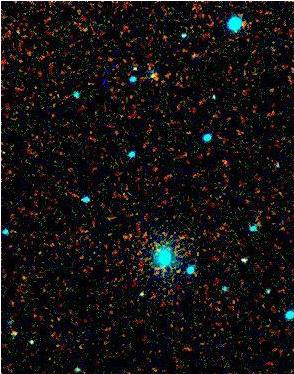star: (165, 259, 195, 289)
